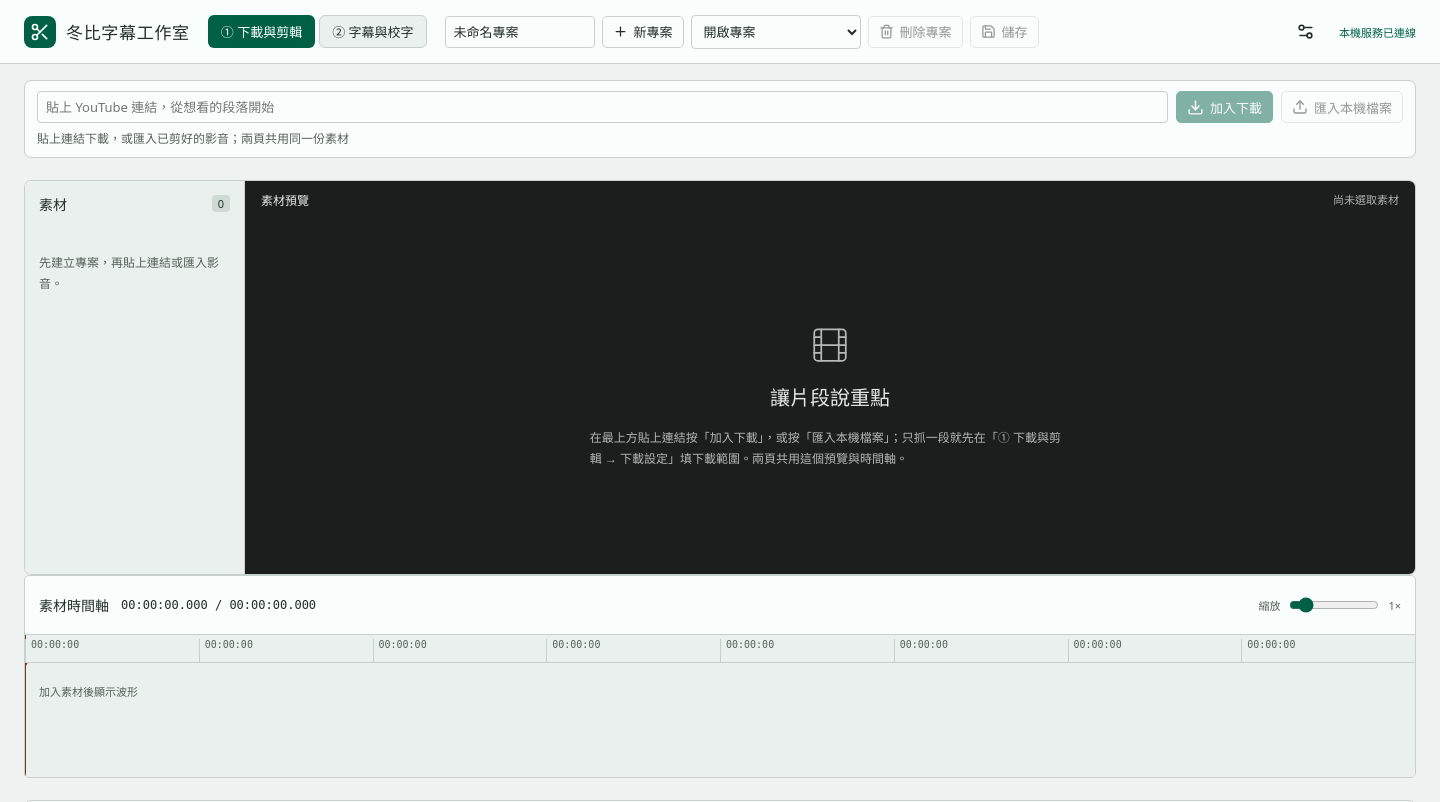
keeps a project created while an older list refresh is still in flight
The width and height of the screenshot is (1440, 802).
Replace the text in the field named "專案名稱" with "新的交叉測試" at (520, 32), box [444,16,594,48]
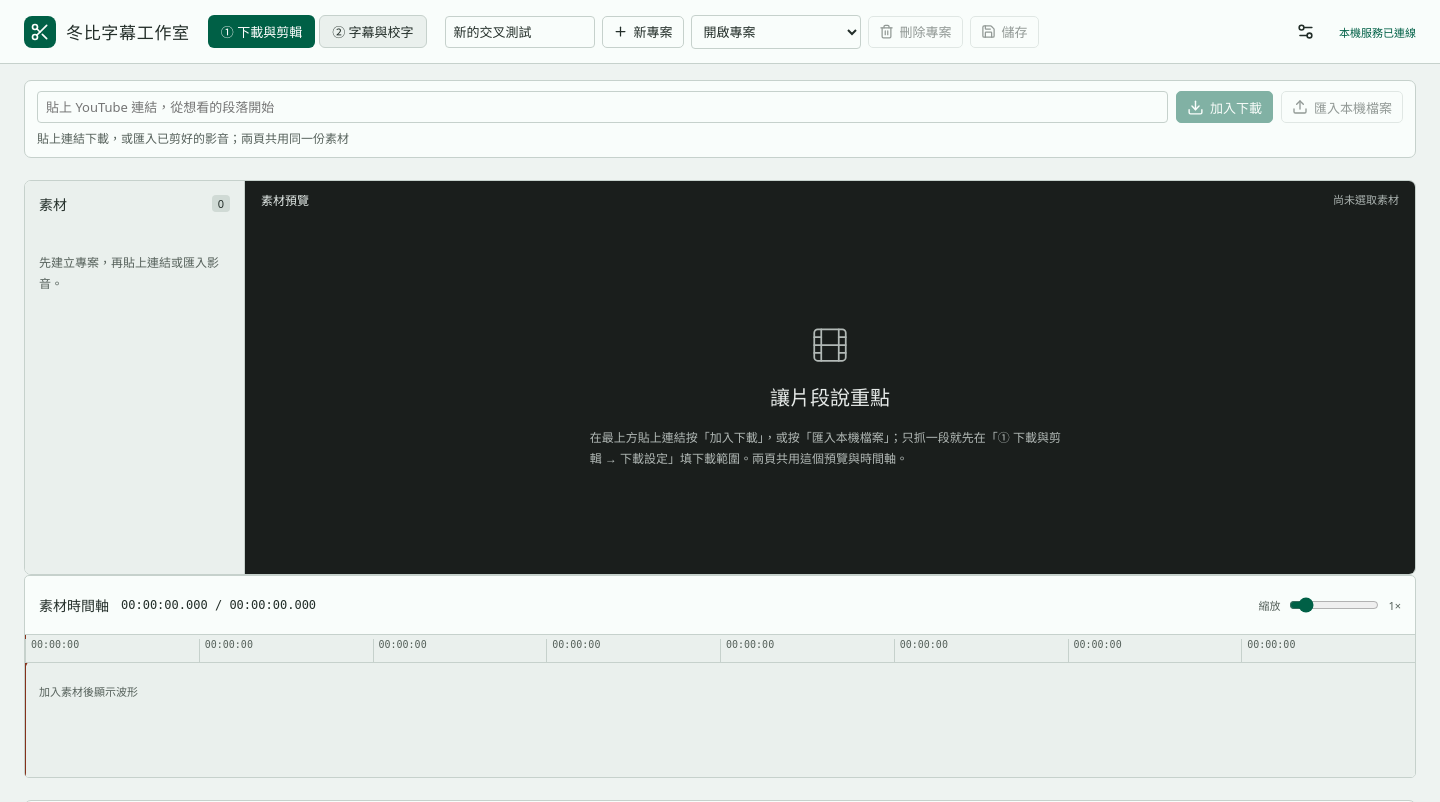
Click the button "新專案" at (642, 32), box [602,16,684,48]
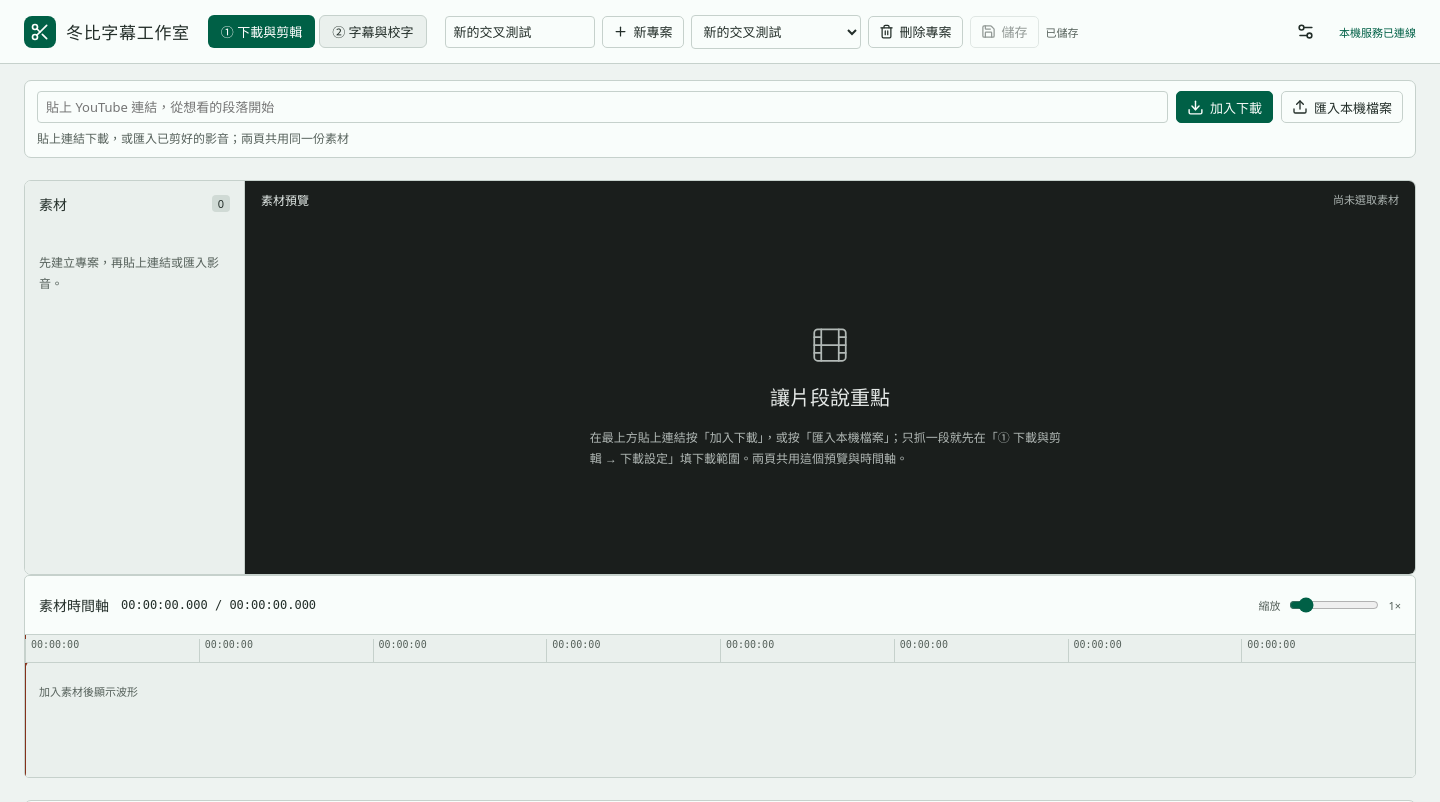
expect the dropdown named "開啟專案" shows "新的交叉測試": met, box [691,14,861,48]
